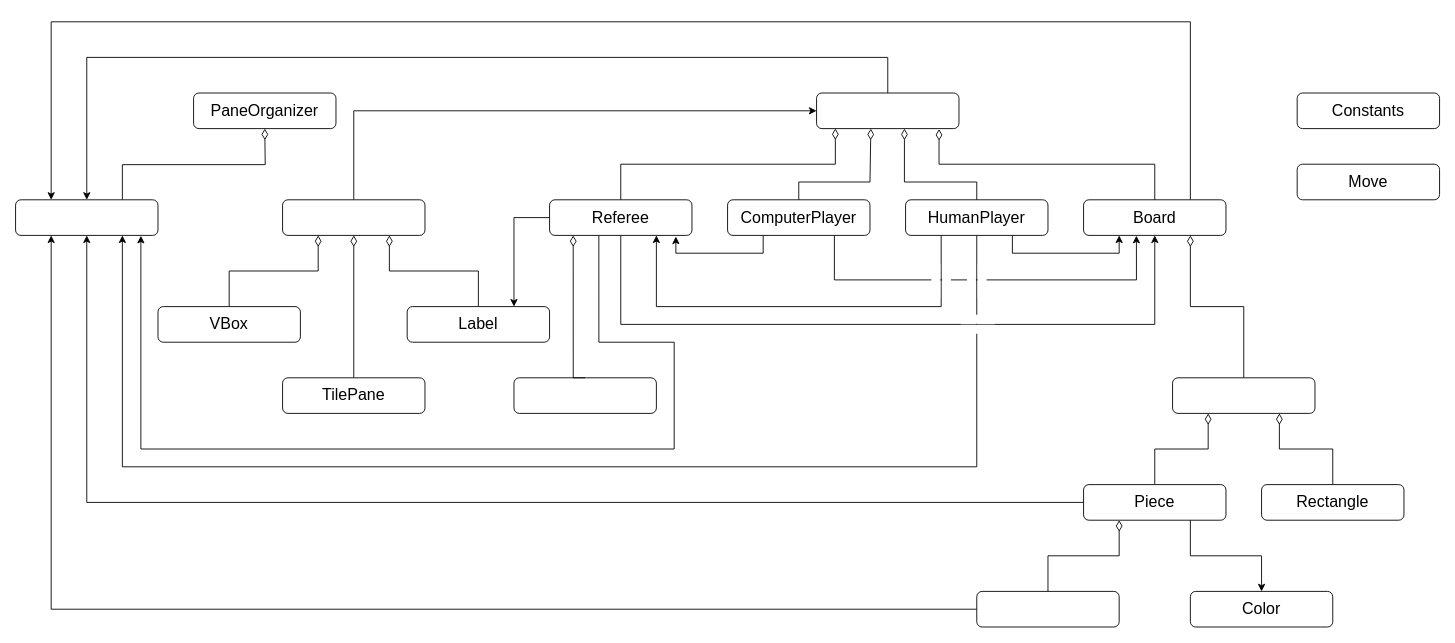
This 1455x643 diagram has some shape labels left out. Here are the shapes that lost their labels. From the top down, the centre of each, then its label:
At [887,110]: "SetupGame".
At [86,217]: "BorderPane".
At [353,217]: "Controls".
At [584,395]: "Timeline".
At [1243,395]: "Square".
At [1047,609]: "Circle".
